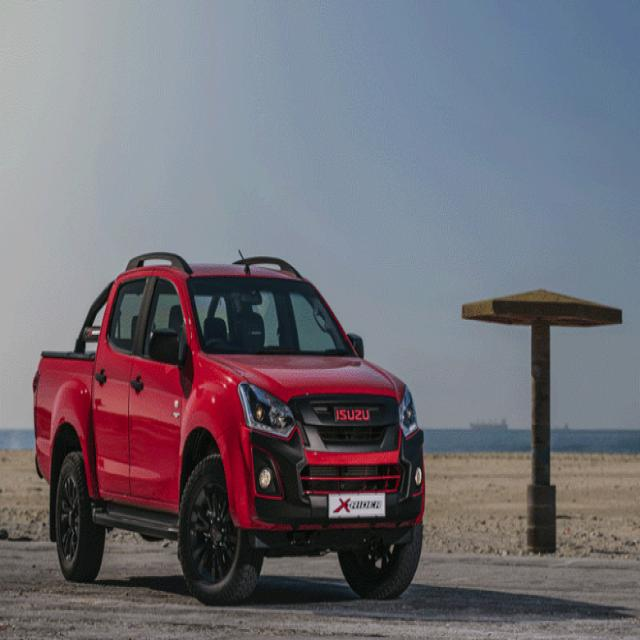Pickup Trucks: (35, 258, 424, 604)
